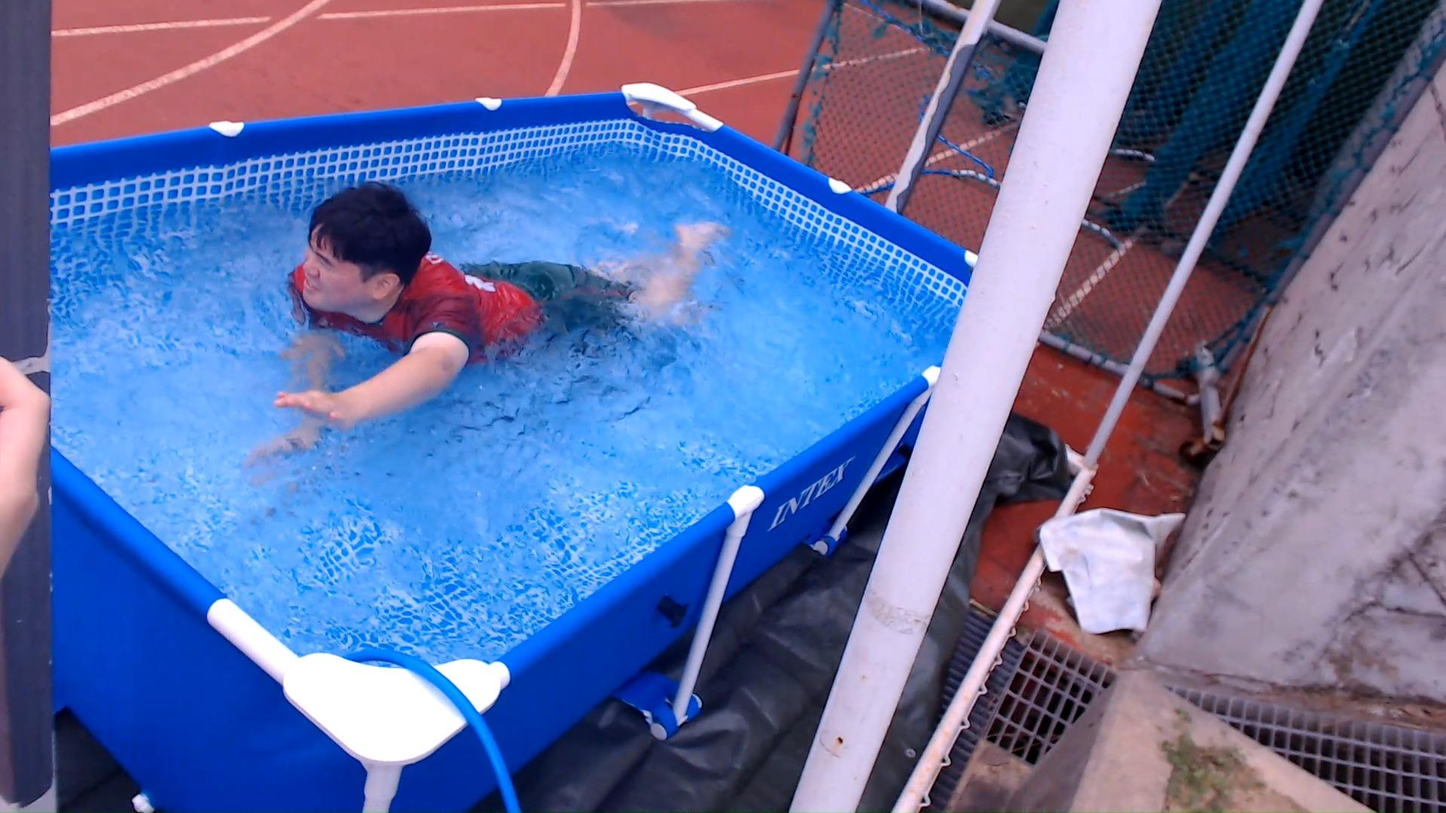Swimming: (149, 113, 785, 473)
